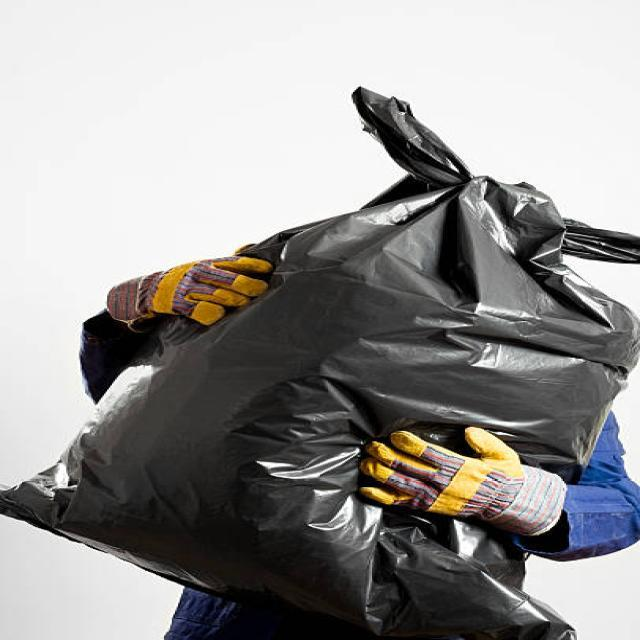Gloves: (350, 423, 568, 538), (100, 242, 274, 332)
